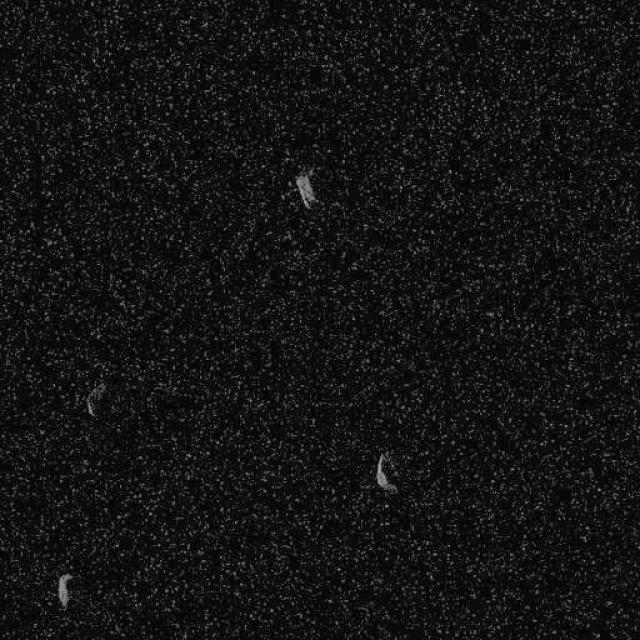D2: (373, 451, 398, 494), (292, 171, 318, 210), (84, 379, 108, 419), (56, 571, 72, 609)
